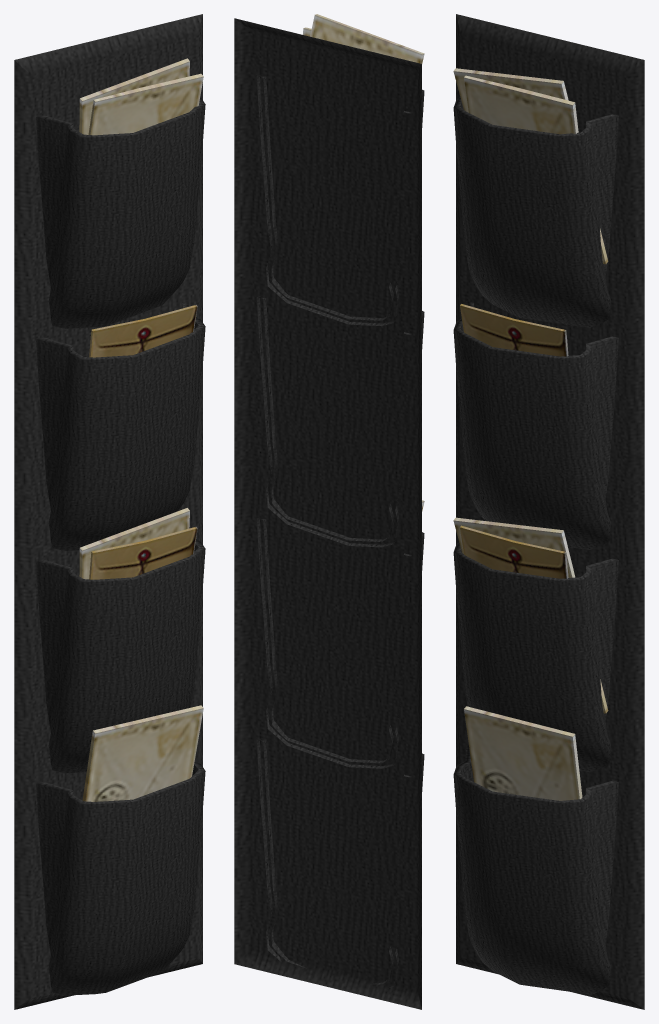
Rendered from 072_wallpocket01a.fbx.
3 renders of one model, left to right at view 1: azimuth 30°, elevation 25°; view 2: azimuth 150°, elevation 25°; view 3: azimuth 330°, elevation 25°, orthographic.
Visible parts, largest first — view 1: LOD_1_Group_0_Sub_1__sm36_072_WallPocket01A_A_Mat; view 2: LOD_1_Group_0_Sub_1__sm36_072_WallPocket01A_A_Mat; view 3: LOD_1_Group_0_Sub_1__sm36_072_WallPocket01A_A_Mat.
Part boxes in pixels (x1=…): LOD_1_Group_0_Sub_1__sm36_072_WallPocket01A_A_Mat: x1=14, y1=14, x2=205, y2=1009; LOD_1_Group_0_Sub_1__sm36_072_WallPocket01A_A_Mat: x1=234, y1=14, x2=424, y2=1009; LOD_1_Group_0_Sub_1__sm36_072_WallPocket01A_A_Mat: x1=453, y1=14, x2=644, y2=1009.
Bounding box in the file's own units: 0.2143 × 1.03 × 0.0862.
